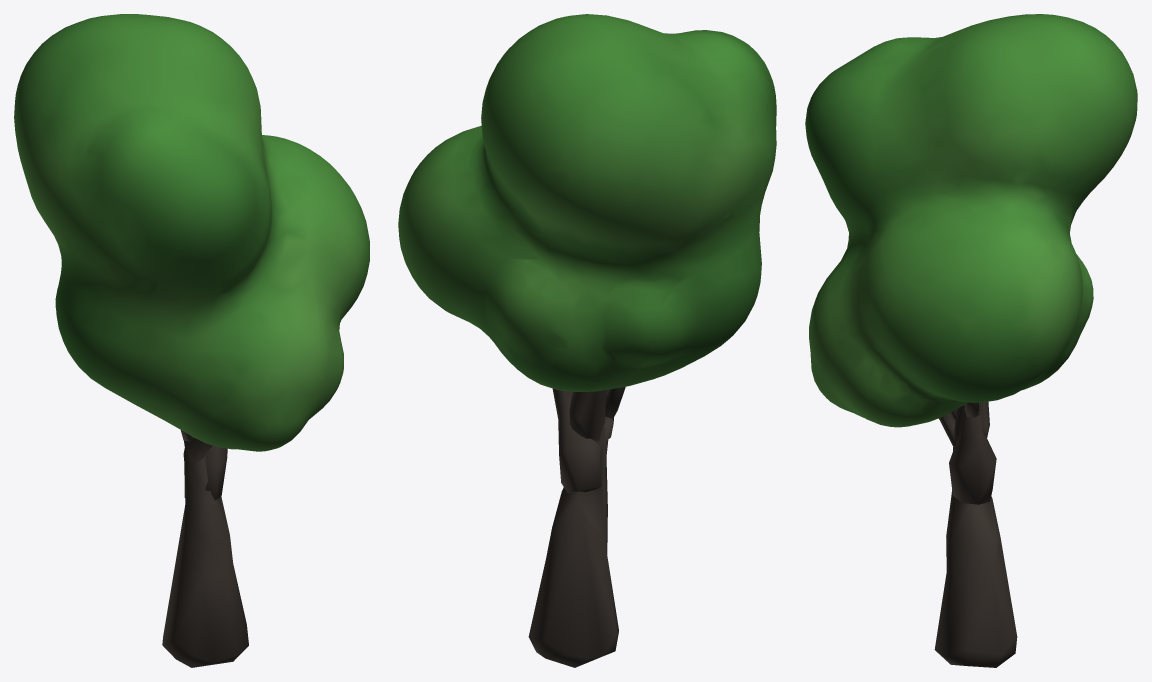
File: tree_06_5.glb
The picture shows the model from 3 angles, left to right: view 1: azimuth 30°, elevation 25°; view 2: azimuth 150°, elevation 25°; view 3: azimuth 270°, elevation 25°; orthographic projection. The views are drawn at different scales.
Visible parts, largest first — view 1: canopy, bark; view 2: canopy, bark; view 3: canopy, bark.
Boxes of the visible parts, left/top/right/bottom form: canopy: left=14, top=14, right=369, bottom=451; bark: left=162, top=430, right=248, bottom=667; canopy: left=398, top=14, right=776, bottom=391; bark: left=528, top=387, right=625, bottom=667; canopy: left=805, top=14, right=1137, bottom=427; bark: left=934, top=401, right=1017, bottom=667.
Bounding box in the file's own units: 2.43 × 4.67 × 2.29.
